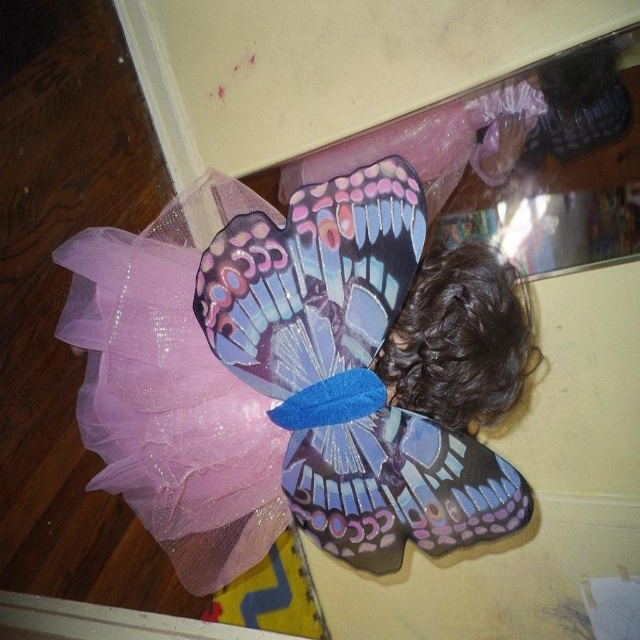Butterfly: (165, 169, 575, 548)
